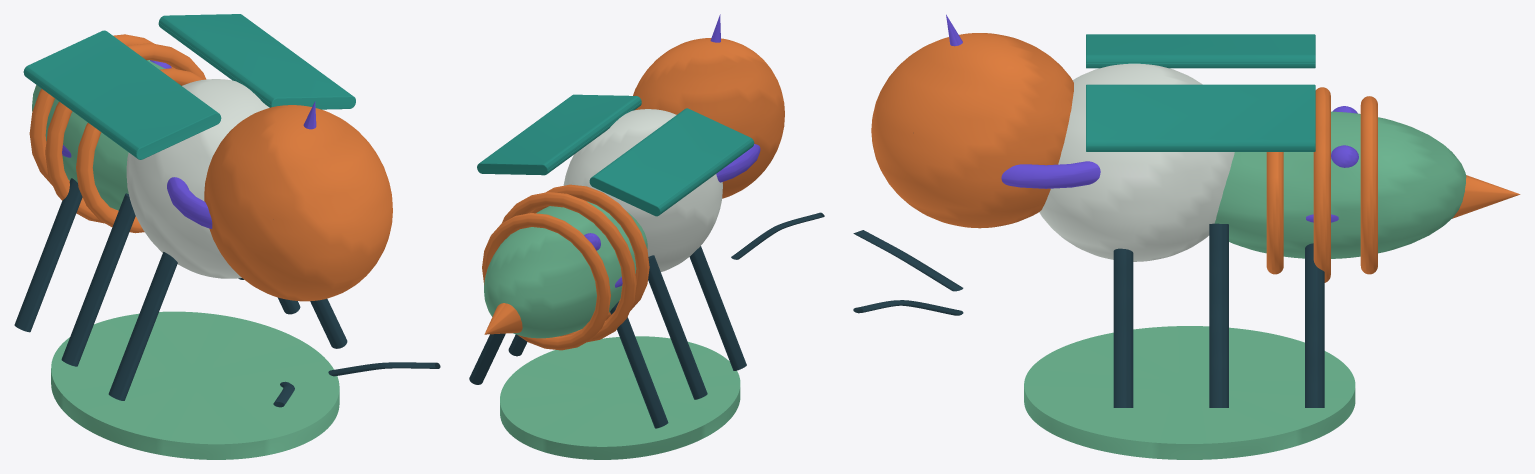
Rendered from 0015_昆虫图鉴_蚕.glb.
The picture shows the model from 3 angles, left to right: view 1: azimuth 30°, elevation 25°; view 2: azimuth 150°, elevation 25°; view 3: azimuth 270°, elevation 25°; orthographic projection. The views are drawn at different scales.
Visible parts, largest first — view 1: card_0015; view 2: card_0015; view 3: card_0015.
Part boxes in pixels (x1=…): card_0015: x1=14, y1=14, x2=440, y2=459; card_0015: x1=469, y1=14, x2=824, y2=459; card_0015: x1=853, y1=14, x2=1520, y2=459.
Size of the model in its own units: 0.6541 by 1 by 1.56.
